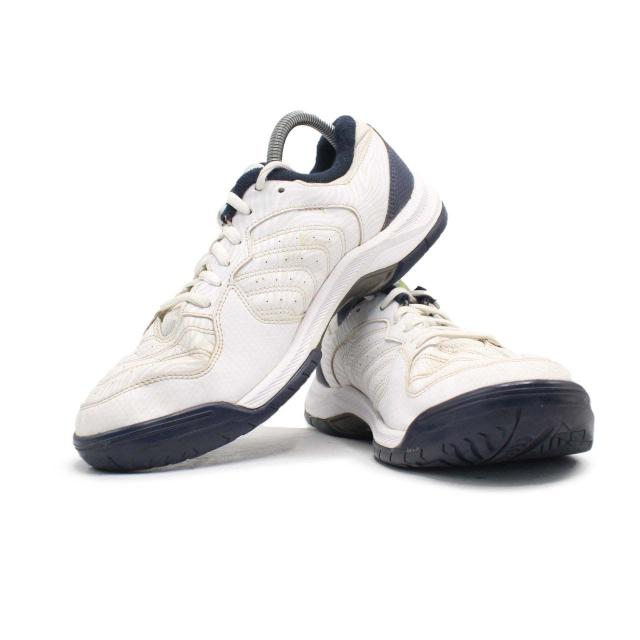heel: (342, 113, 416, 223)
midsole: (74, 178, 448, 473), (304, 377, 594, 475)
uppersole: (75, 164, 388, 437), (324, 284, 583, 433)
